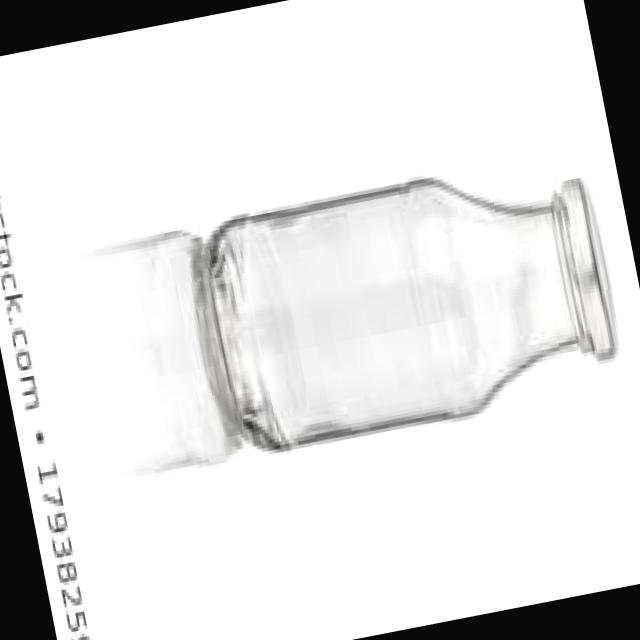bottle: (204, 180, 616, 450)
